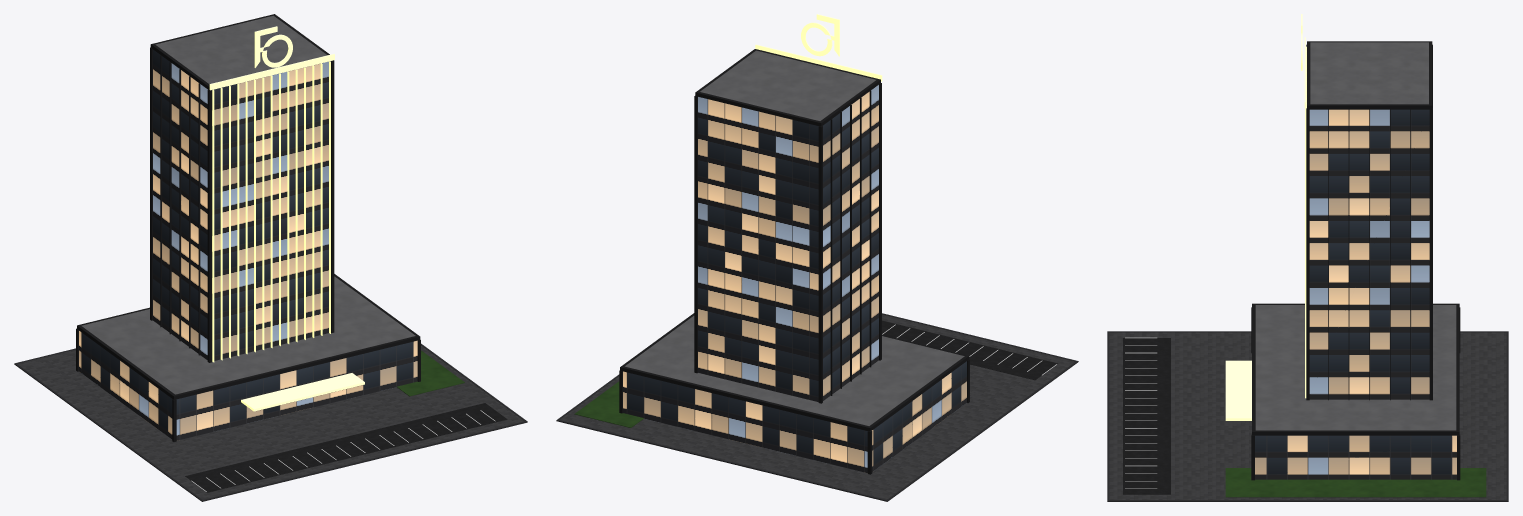
The model's file is sponsor_L4.glb.
The picture shows the model from 3 angles, left to right: view 1: azimuth 30°, elevation 25°; view 2: azimuth 150°, elevation 25°; view 3: azimuth 270°, elevation 25°; orthographic projection. The views are drawn at different scales.
Visible parts, largest first — view 1: emissive_curtain_sponsor_L4, paving_sponsor_L4, roofing_sponsor_L4, emissive_led_sponsor_L4, black_metal_sponsor_L4, asphalt_sponsor_L4, concrete_dark_sponsor_L4, lawn_sponsor_L4; view 2: emissive_curtain_sponsor_L4, roofing_sponsor_L4, paving_sponsor_L4, black_metal_sponsor_L4, asphalt_sponsor_L4, concrete_dark_sponsor_L4, emissive_led_sponsor_L4, lawn_sponsor_L4; view 3: emissive_curtain_sponsor_L4, paving_sponsor_L4, roofing_sponsor_L4, black_metal_sponsor_L4, asphalt_sponsor_L4, lawn_sponsor_L4, emissive_led_sponsor_L4, concrete_dark_sponsor_L4, white_sponsor_L4.
Boxes of the visible parts, <box> form: emissive_curtain_sponsor_L4: <box>79,49,417,440</box>; paving_sponsor_L4: <box>17,345,524,499</box>; roofing_sponsor_L4: <box>81,15,415,394</box>; emissive_led_sponsor_L4: <box>209,26,364,411</box>; black_metal_sponsor_L4: <box>76,14,420,441</box>; asphalt_sponsor_L4: <box>185,403,507,492</box>; concrete_dark_sponsor_L4: <box>14,343,527,501</box>; lawn_sponsor_L4: <box>397,350,464,396</box>; emissive_curtain_sponsor_L4: <box>623,85,966,472</box>; roofing_sponsor_L4: <box>625,50,964,426</box>; paving_sponsor_L4: <box>560,314,1075,499</box>; black_metal_sponsor_L4: <box>619,49,969,474</box>; asphalt_sponsor_L4: <box>882,320,1057,380</box>; concrete_dark_sponsor_L4: <box>556,313,1078,501</box>; emissive_led_sponsor_L4: <box>755,14,882,81</box>; lawn_sponsor_L4: <box>574,381,643,427</box>; emissive_curtain_sponsor_L4: <box>1255,109,1456,479</box>; paving_sponsor_L4: <box>1109,332,1506,499</box>; roofing_sponsor_L4: <box>1255,42,1456,430</box>; black_metal_sponsor_L4: <box>1251,41,1460,480</box>; asphalt_sponsor_L4: <box>1123,338,1170,494</box>; lawn_sponsor_L4: <box>1225,468,1486,497</box>; emissive_led_sponsor_L4: <box>1225,14,1306,420</box>; concrete_dark_sponsor_L4: <box>1107,331,1508,501</box>; white_sponsor_L4: <box>1125,337,1157,488</box>.
Bounding box in the file's own units: 58.6 × 63.32 × 58.6.
Materials: 10 (6 with a texture image).
